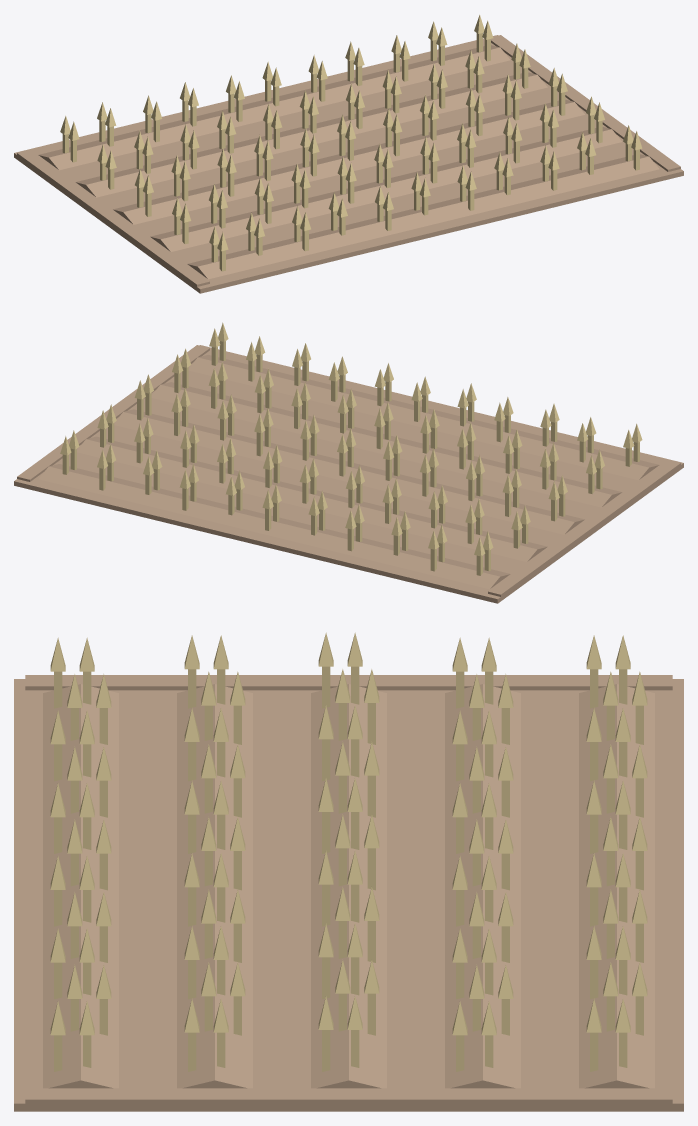
The model's file is field.glb.
3 views of the same model, one above another, from view 1: azimuth 30°, elevation 25°; view 2: azimuth 150°, elevation 25°; view 3: azimuth 270°, elevation 25° (orthographic). The views are drawn at different scales.
Visible parts, largest first — view 1: field_soil, field_grain; view 2: field_soil, field_grain; view 3: field_soil, field_grain.
Boxes of the visible parts, x1,y1,x2,y2 form: field_soil: [14, 35, 683, 293]; field_grain: [60, 14, 642, 271]; field_soil: [14, 345, 683, 603]; field_grain: [60, 322, 642, 575]; field_soil: [14, 675, 683, 1111]; field_grain: [50, 632, 647, 1071].
Bounding box in the file's own units: 3 × 0.2817 × 2.
